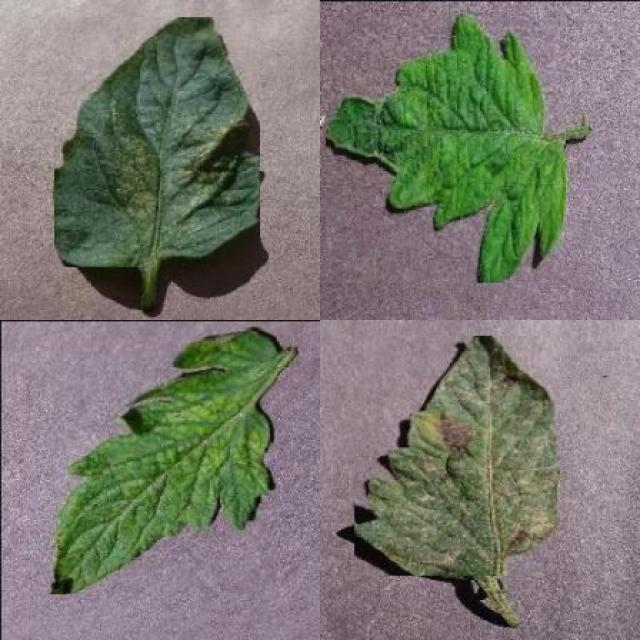Early Blight: (355, 336, 558, 576)
Mosaic Virus: (326, 12, 566, 282), (50, 326, 277, 594)
Spider Mites: (54, 17, 260, 267)
